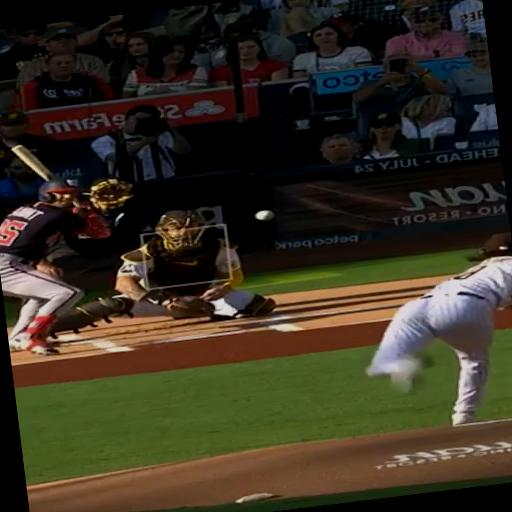bat: (9, 144, 53, 180)
